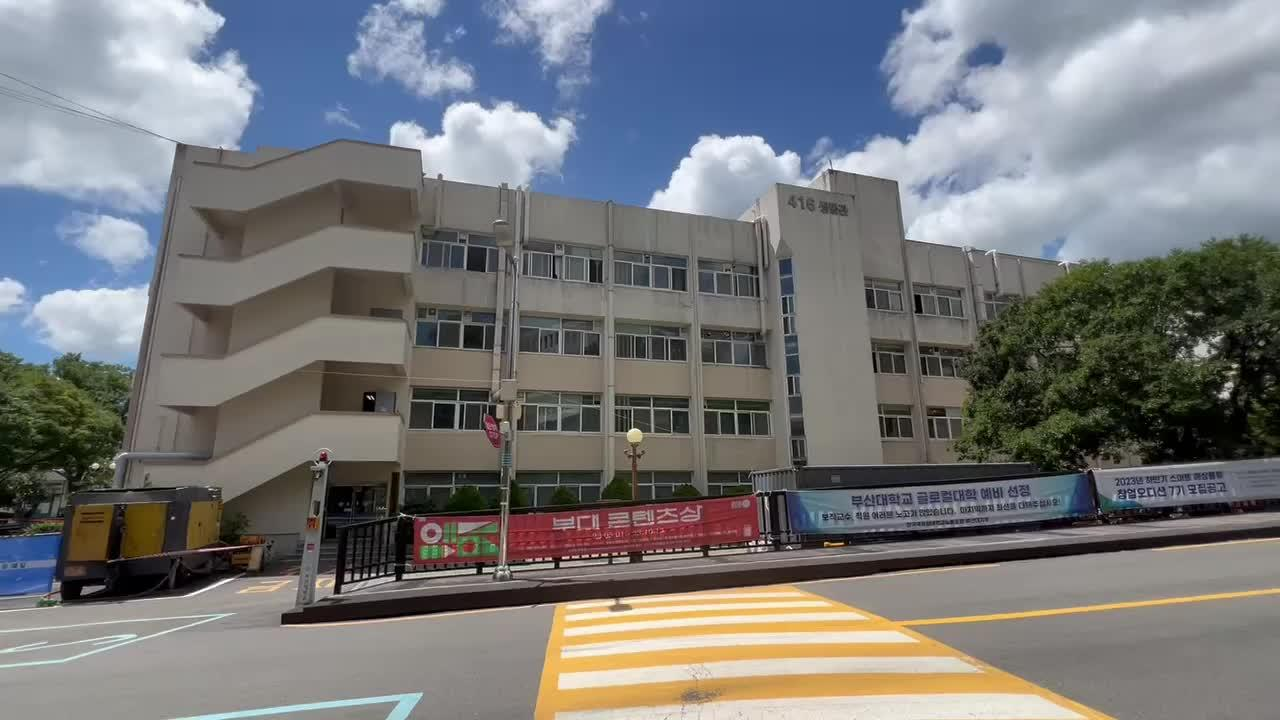building: (177, 133, 969, 479)
